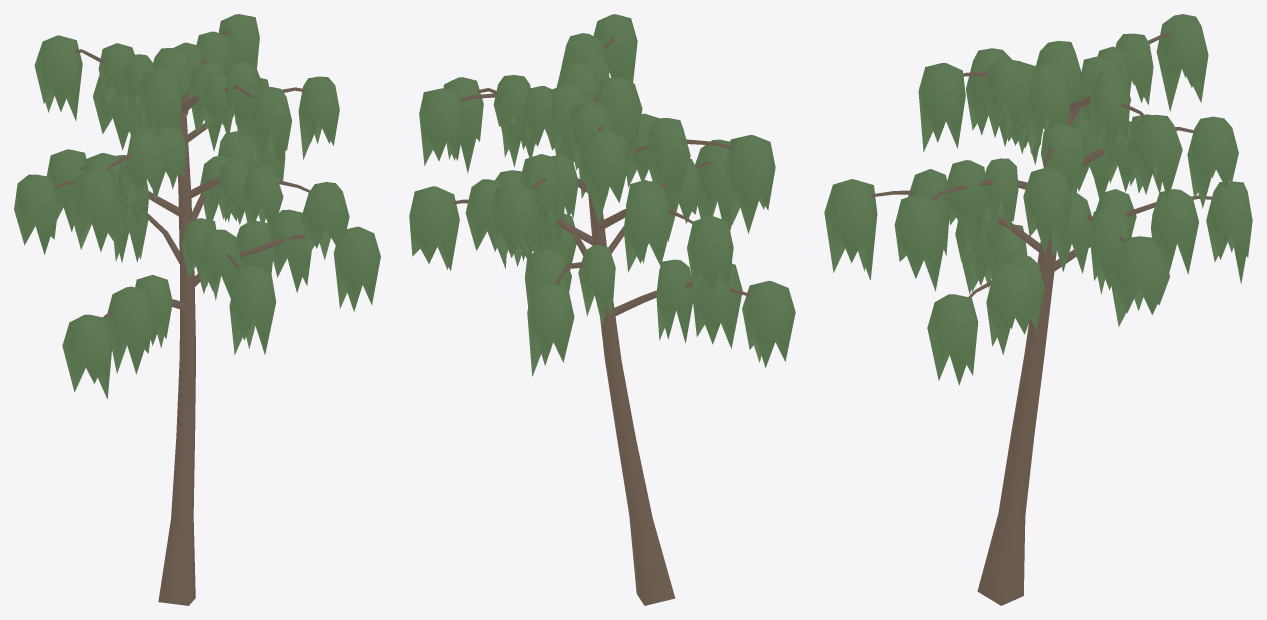
File: Blender_Casuarina_1_Far.glb
3 renders of one model, left to right at view 1: azimuth 30°, elevation 25°; view 2: azimuth 150°, elevation 25°; view 3: azimuth 270°, elevation 25°, orthographic. The views are drawn at different scales.
Parts seen in each view (by area): view 1: Blender_Casuarina_1_Far; view 2: Blender_Casuarina_1_Far; view 3: Blender_Casuarina_1_Far.
Part boxes in pixels (<box>): Blender_Casuarina_1_Far: <box>14,14,380,605</box>; Blender_Casuarina_1_Far: <box>409,14,795,605</box>; Blender_Casuarina_1_Far: <box>824,14,1252,605</box>.
Size of the model in its own units: 12.45 by 21.07 by 14.28.
